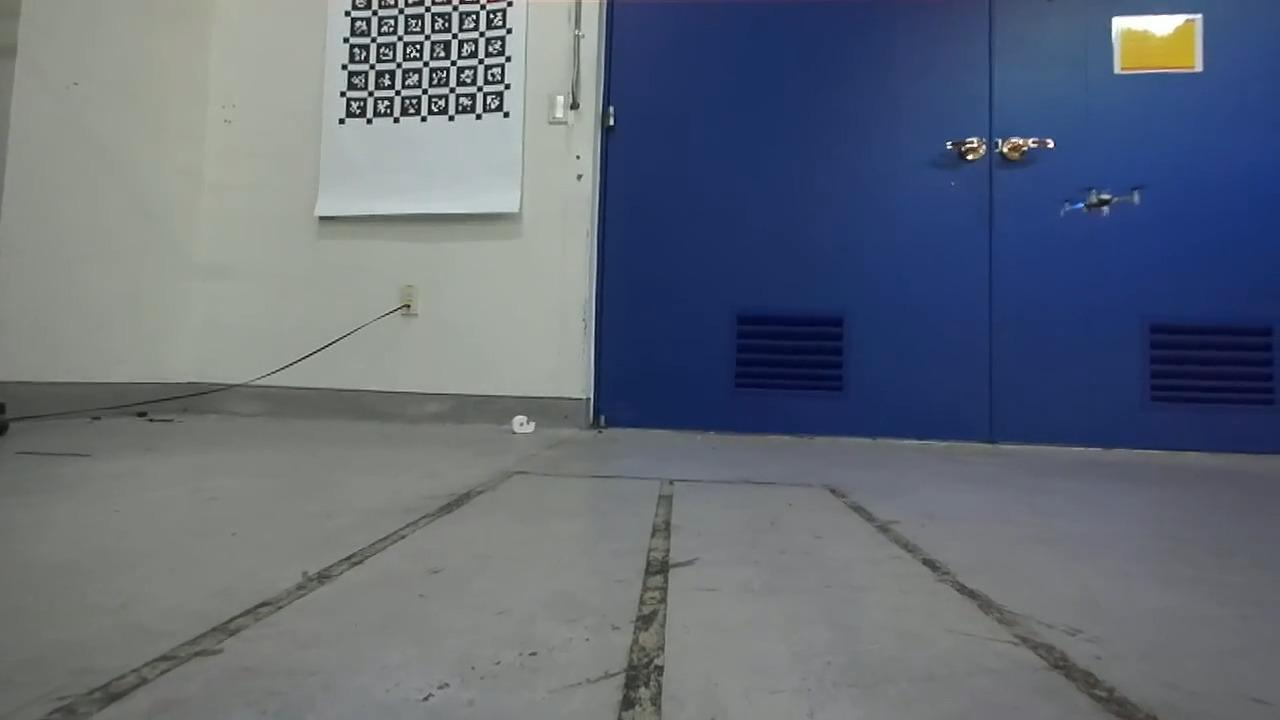crazyflie: (1058, 181, 1145, 221)
